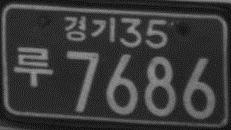3: (119, 16, 141, 48)
5: (144, 18, 166, 49)
6: (104, 53, 138, 115), (181, 58, 215, 120)
7: (64, 48, 99, 112)
8: (143, 54, 176, 116)
경기_O: (63, 15, 116, 43)
루: (12, 44, 52, 88)
